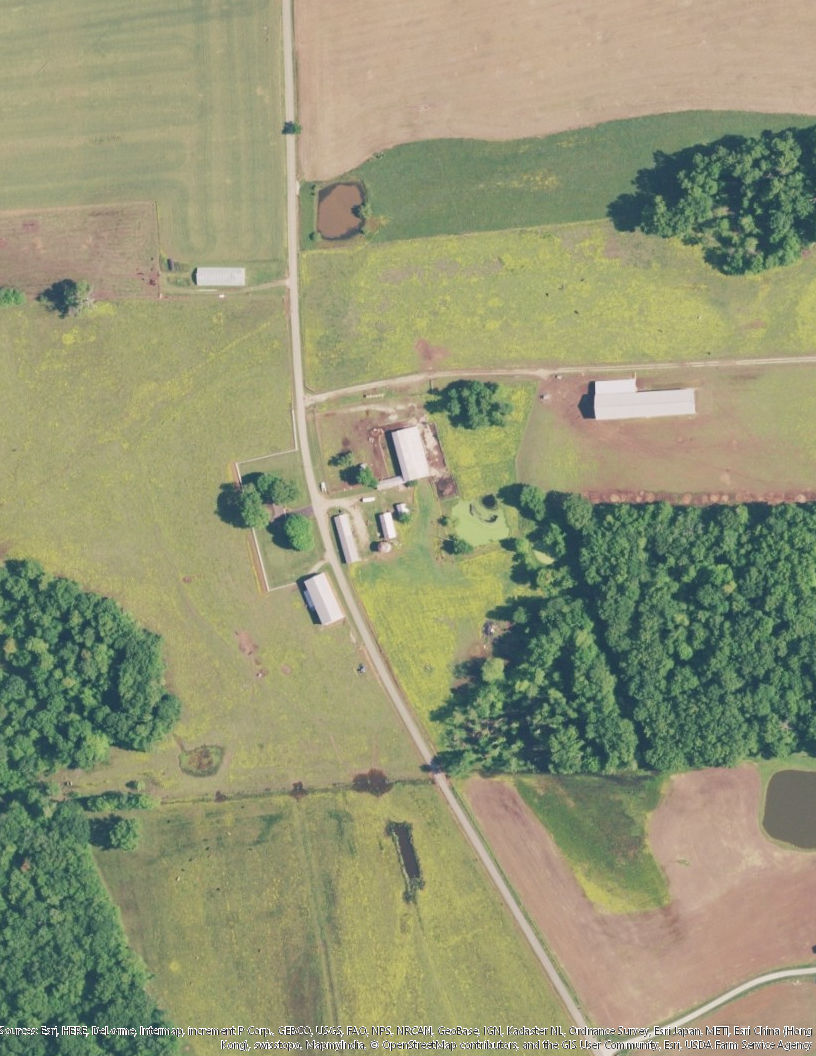cafo: (586, 370, 707, 424), (370, 419, 440, 493), (299, 571, 346, 630), (332, 510, 363, 568)
